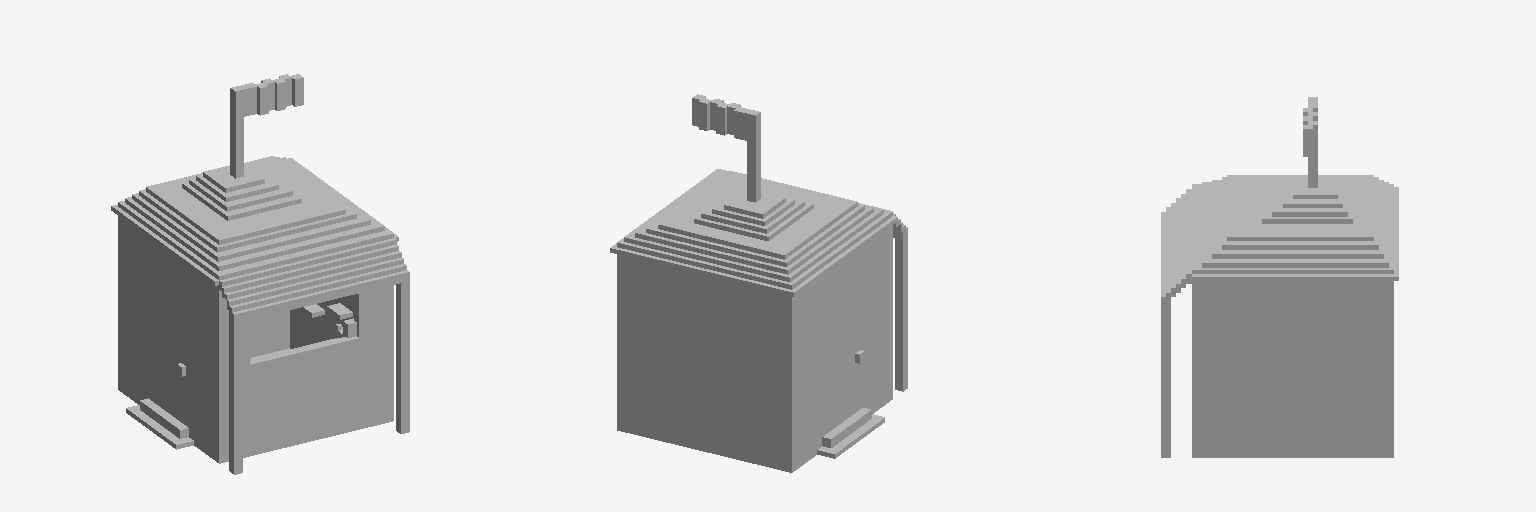
File: shop.obj
The picture shows the model from 3 angles: view 1: azimuth 30°, elevation 25°; view 2: azimuth 150°, elevation 25°; view 3: azimuth 270°, elevation 25°; orthographic projection.
Parts seen in each view (by area): view 1: object 1; view 2: object 1; view 3: object 1.
Part boxes in pixels (bbox=[...]): object 1: bbox=[111, 74, 409, 474]; object 1: bbox=[610, 94, 907, 472]; object 1: bbox=[1161, 97, 1398, 457].
Bounding box in the file's own units: 4.5 × 6.8 × 4.7.